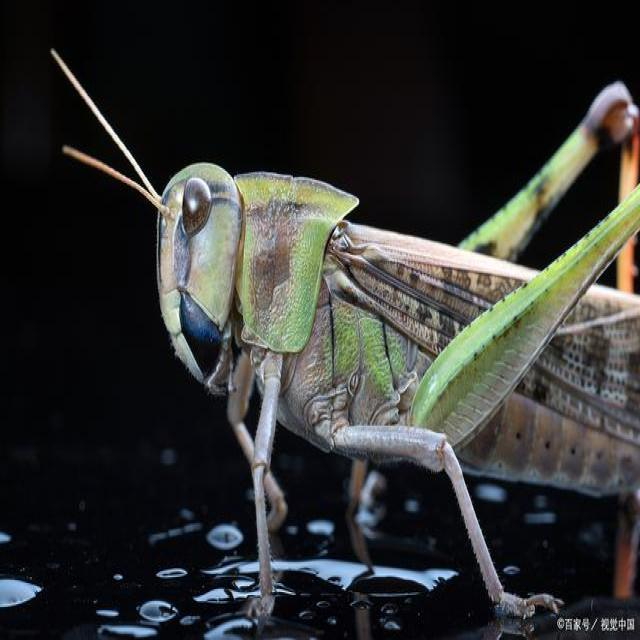ZhaMeng: (106, 132, 631, 531)
